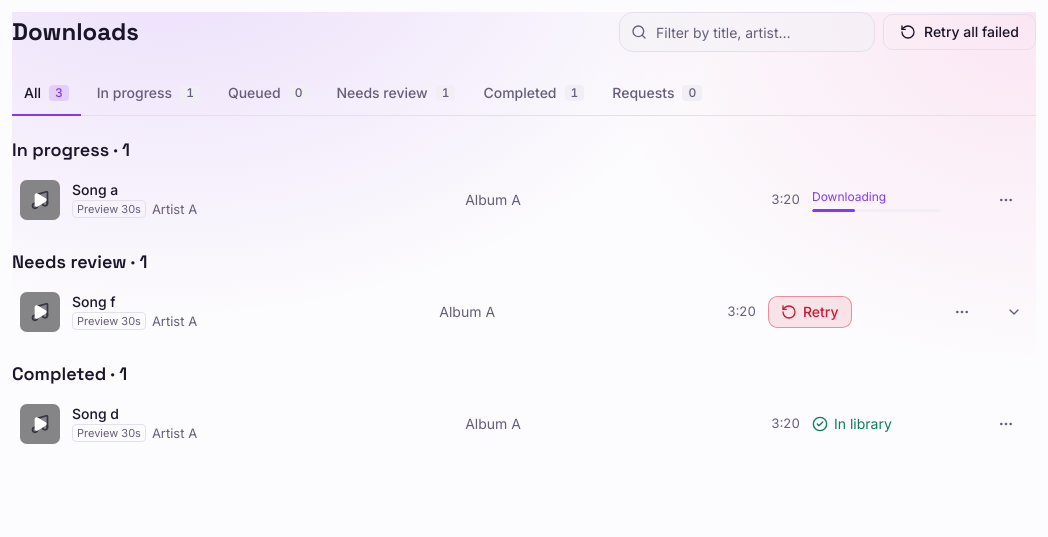
Test: a download that never reached a worker › shows the queue_unavailable code as an attempt's error, in words (the server says it is tried again automatically)
Click the button named "Show attempts for Song f" at (1014, 312), box [992,290,1036,334]
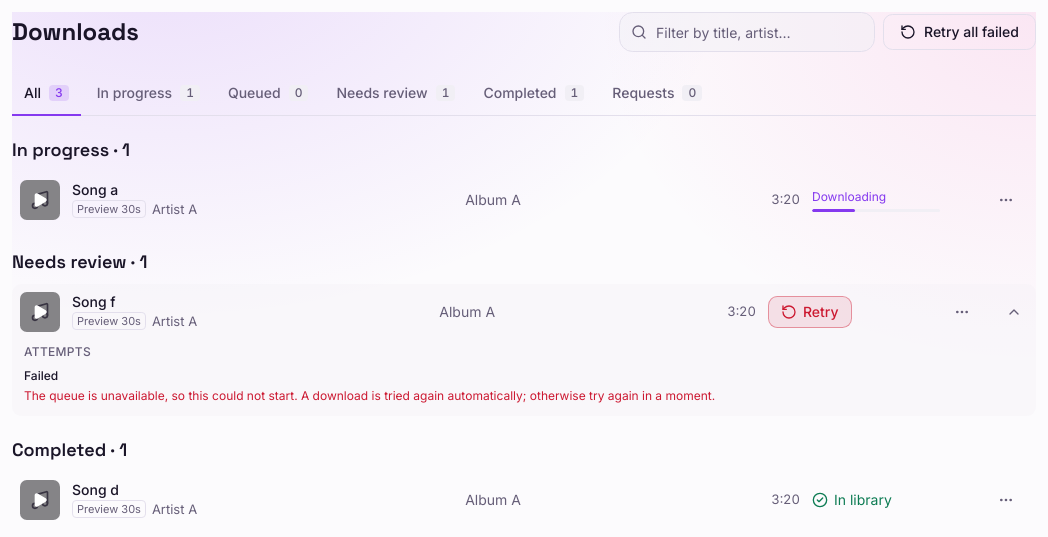
Expected: the text "The queue is unavailable, so this could not start. A download is tried again automatically; otherwise try again in a mom" is shown, [24,388,715,403]
